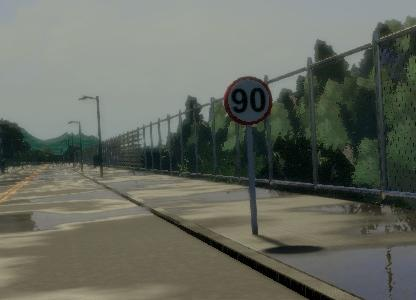Speed_90: (221, 73, 275, 128)
